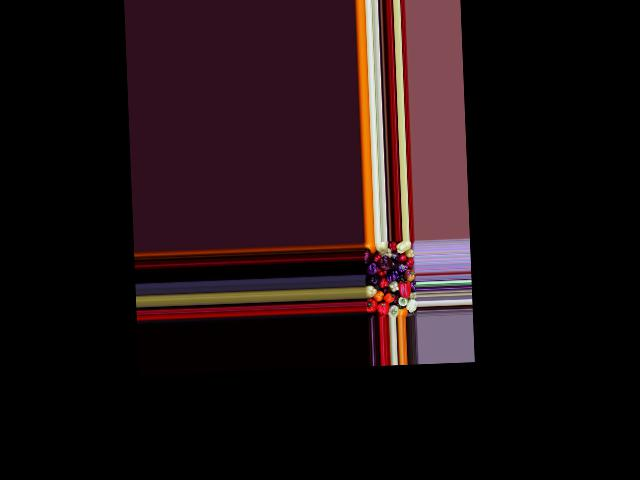bell_pepper: (388, 303, 397, 317)
